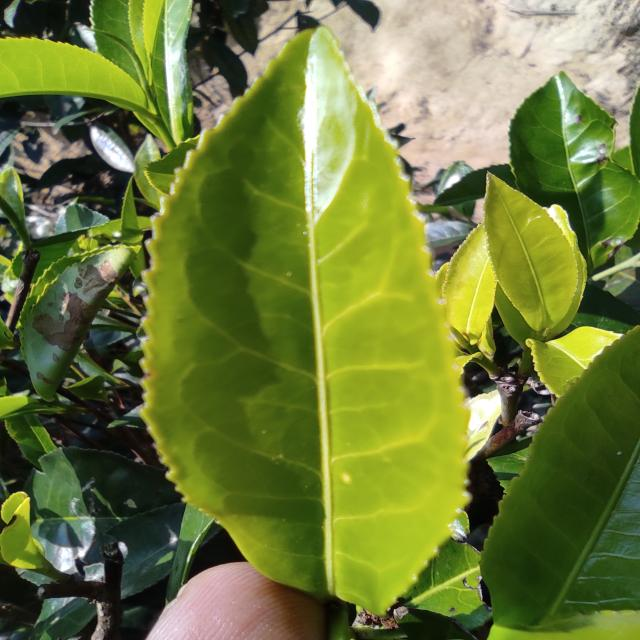Category C(4-7 days): (114, 15, 507, 621)
